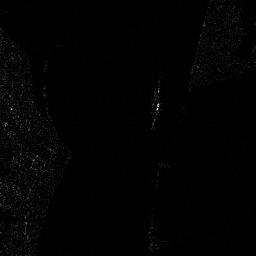ship: (148, 86, 162, 127)
